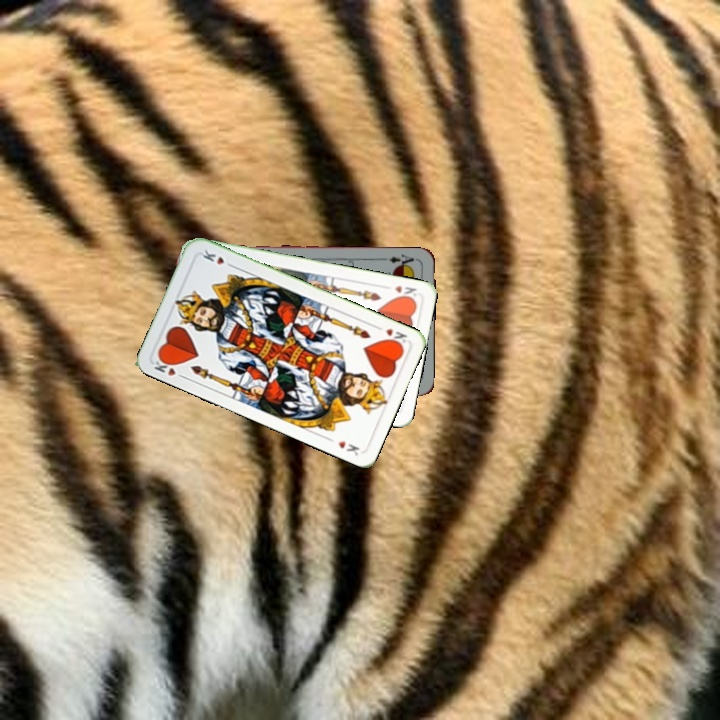EA: (385, 250, 420, 270)
HK: (371, 321, 410, 348), (150, 353, 180, 378), (391, 281, 419, 302)
